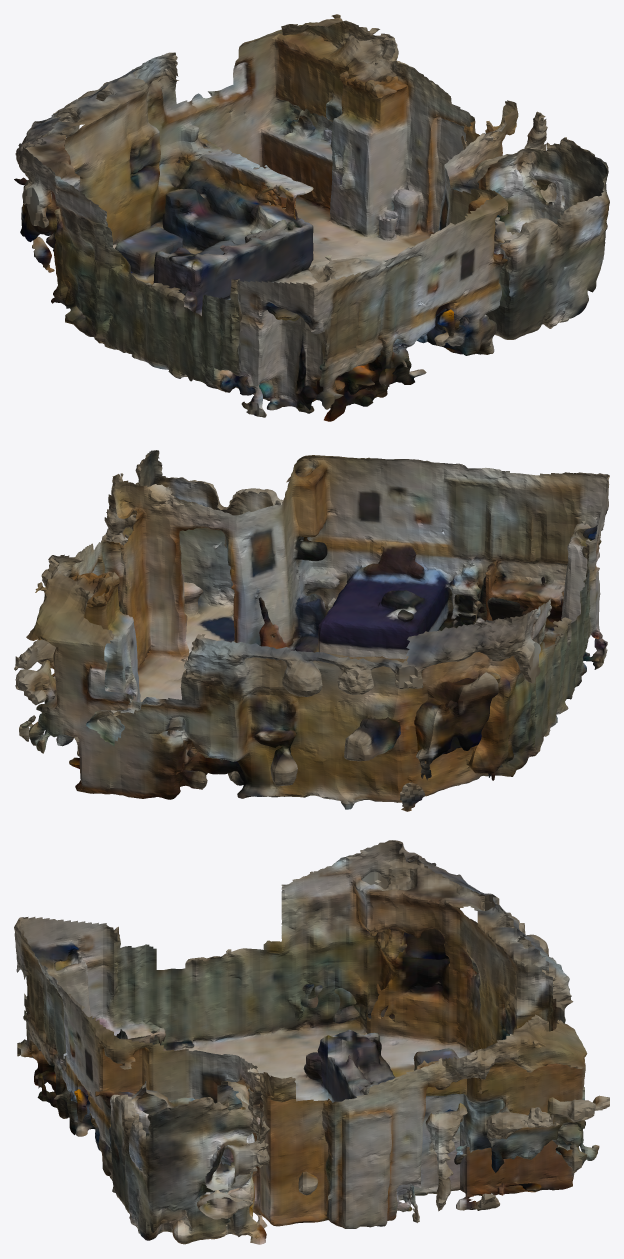
The picture shows the model from 3 angles, top to bottom: view 1: azimuth 30°, elevation 25°; view 2: azimuth 150°, elevation 25°; view 3: azimuth 270°, elevation 25°; orthographic projection. The views are drawn at different scales.
Parts seen in each view (by area): view 1: Mesh; view 2: Mesh; view 3: Mesh.
Boxes of the visible parts, x1,y1,x2,y2 form: Mesh: (14,14,609,421); Mesh: (14,450,609,811); Mesh: (14,840,609,1244).
Bounding box in the file's own units: 8.45 × 3.22 × 8.91.
